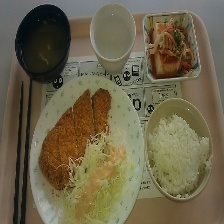rice: (148, 111, 212, 201)
